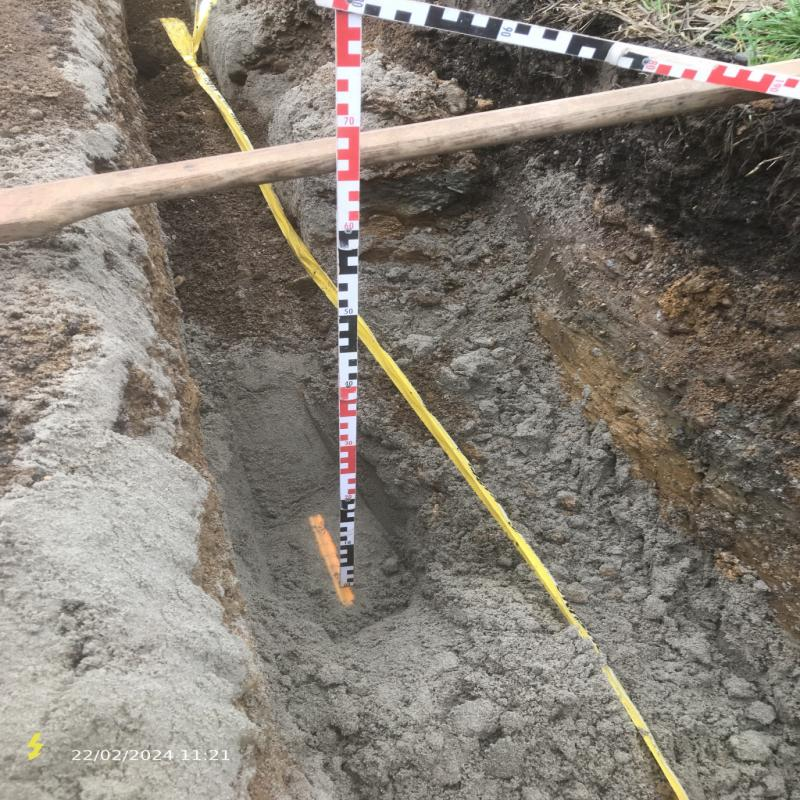Orang-Speednetrohrchen: (306, 512, 353, 604)
